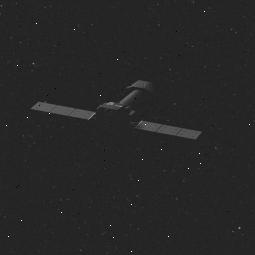xmm_newton: (38, 76, 213, 143)
